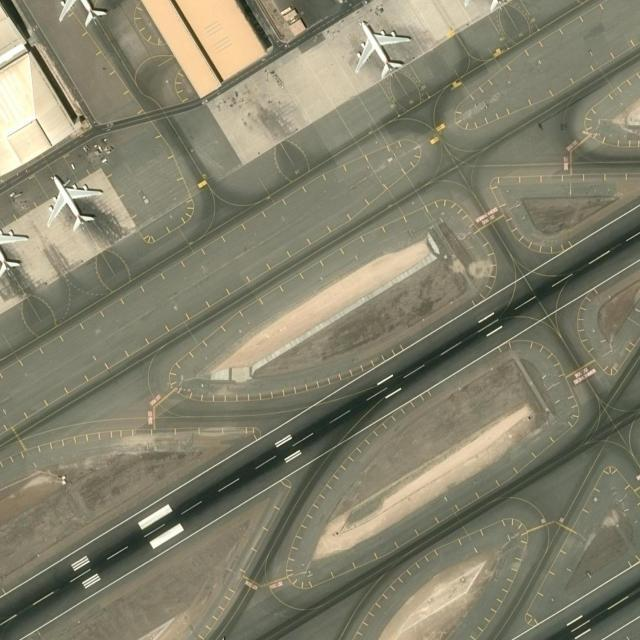Aircraft: (354, 20, 412, 78), (47, 175, 105, 231), (58, 0, 117, 26), (1, 226, 29, 278)
